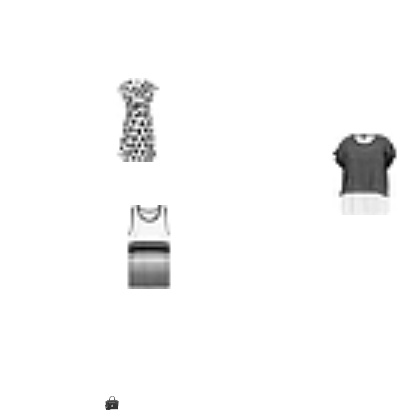Bag: (105, 396, 119, 410)
Dress: (96, 78, 180, 162)
Shirt: (321, 131, 405, 215)
T-shirt/top: (107, 205, 191, 289)
